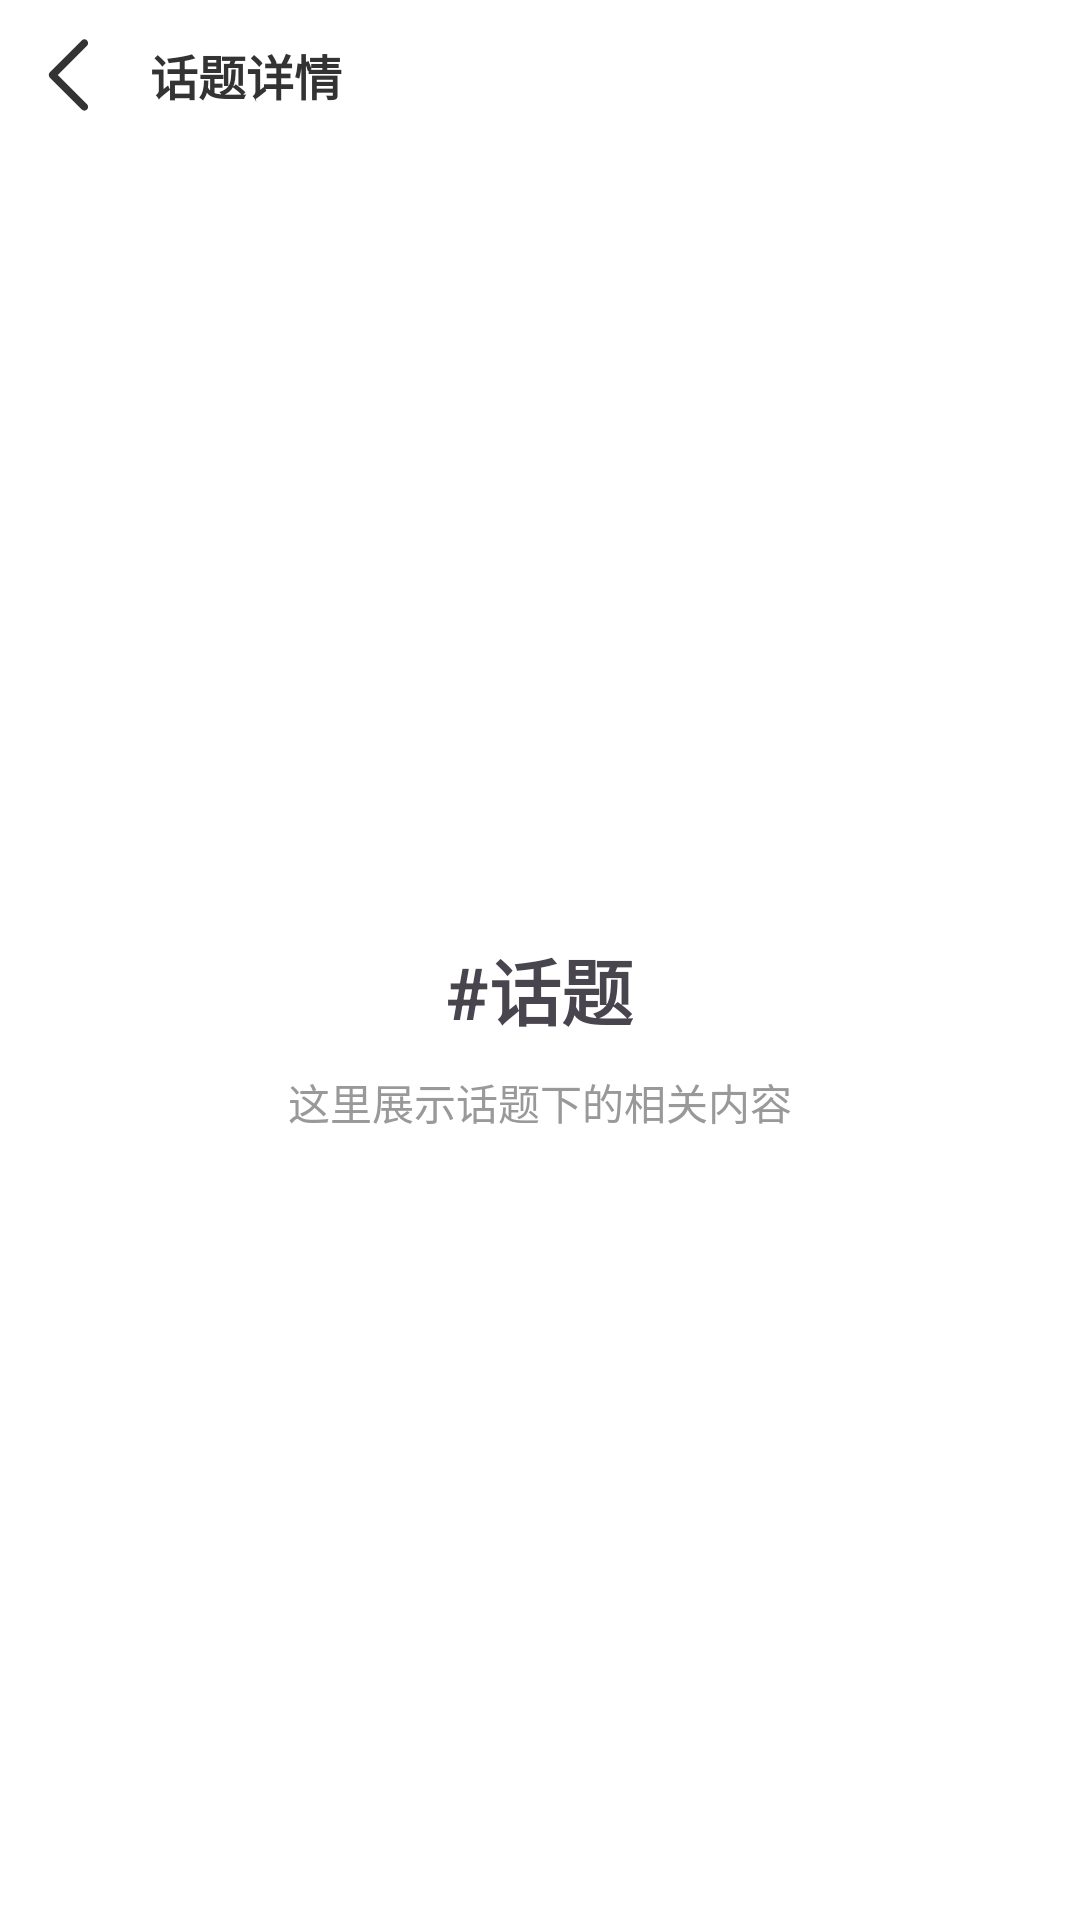

Icon click points for this 1080*1920 phone screenshot, format point (x, y):
leftback: point (68, 75)
